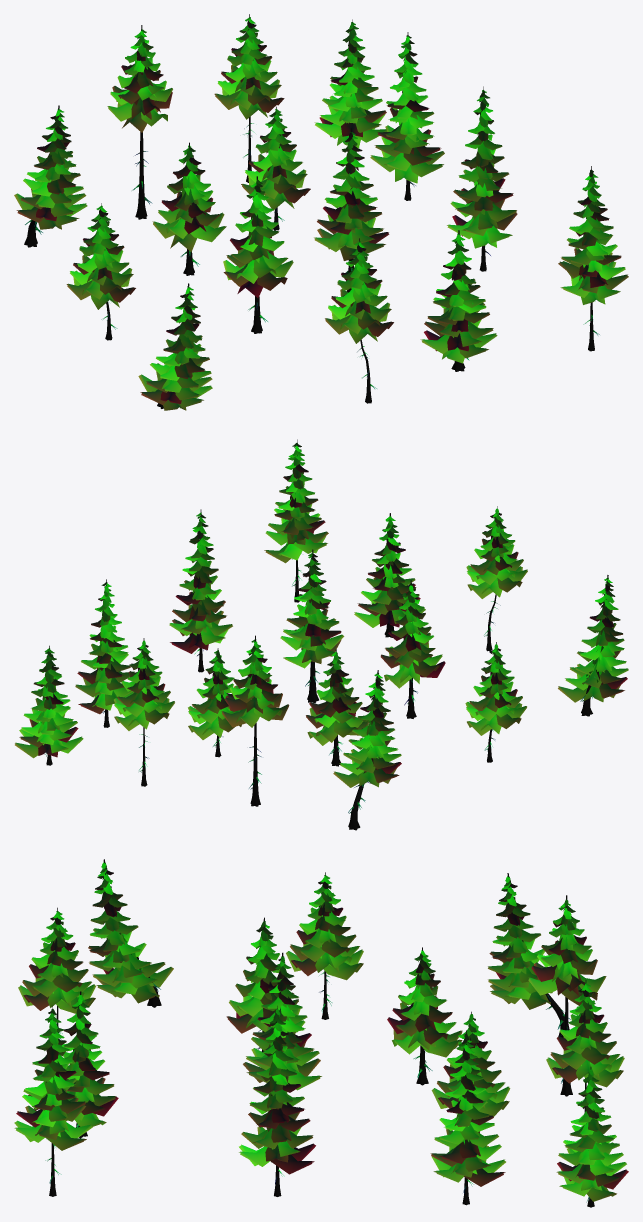
File: Pine_6.fbx
3 views of the same model, one above another, from view 1: azimuth 30°, elevation 25°; view 2: azimuth 150°, elevation 25°; view 3: azimuth 270°, elevation 25° (orthographic). The views are drawn at different scales.
Parts seen in each view (by area): view 1: Tree_3, Tree_2, Tree_8, Tree_4, Tree_13, Tree_7, Tree_15, Tree_11, Tree_1, Tree_9, Tree_10, Tree_12 (+3 smaller); view 2: Tree_3, Tree_15, Tree_13, Tree_7, Tree_4, Tree_2, Tree_1, Tree_9, Tree_11, Tree_8, Tree_12, Tree_10 (+3 smaller); view 3: Tree_3, Tree_2, Tree_4, Tree_15, Tree_1, Tree_14, Tree_10, Tree_13, Tree_9, Tree_5, Tree_12, Tree_7 (+3 smaller).
Boxes of the visible parts, left/top/right/bottom form: Tree_3: left=447, top=86, right=517, bottom=271; Tree_2: left=370, top=32, right=444, bottom=200; Tree_8: left=420, top=230, right=497, bottom=371; Tree_4: left=558, top=166, right=628, bottom=351; Tree_13: left=14, top=105, right=87, bottom=247; Tree_7: left=314, top=128, right=389, bottom=292; Tree_15: left=138, top=283, right=212, bottom=410; Tree_11: left=223, top=176, right=293, bottom=333; Tree_1: left=314, top=19, right=387, bottom=148; Tree_9: left=107, top=25, right=172, bottom=219; Tree_10: left=152, top=142, right=226, bottom=275; Tree_12: left=325, top=238, right=393, bottom=403; Tree_3: left=169, top=509, right=232, bottom=672; Tree_15: left=558, top=575, right=628, bottom=716; Tree_13: left=333, top=670, right=401, bottom=830; Tree_7: left=280, top=549, right=344, bottom=702; Tree_4: left=264, top=439, right=328, bottom=602; Tree_2: left=75, top=579, right=134, bottom=727; Tree_1: left=15, top=645, right=83, bottom=765; Tree_9: left=221, top=635, right=289, bottom=806; Tree_11: left=380, top=580, right=445, bottom=718; Tree_8: left=354, top=513, right=425, bottom=637; Tree_12: left=466, top=506, right=527, bottom=651; Tree_10: left=306, top=649, right=369, bottom=766; Tree_3: left=239, top=1006, right=315, bottom=1196; Tree_2: left=430, top=1030, right=505, bottom=1205; Tree_4: left=14, top=1005, right=92, bottom=1196; Tree_15: left=88, top=859, right=173, bottom=1007; Tree_1: left=556, top=1067, right=628, bottom=1207; Tree_14: left=286, top=872, right=363, bottom=1019; Tree_10: left=387, top=947, right=462, bottom=1085; Tree_13: left=488, top=873, right=570, bottom=1037; Tree_9: left=528, top=895, right=606, bottom=1096; Tree_5: left=546, top=980, right=624, bottom=1112; Tree_12: left=18, top=907, right=95, bottom=1039; Tree_7: left=243, top=952, right=321, bottom=1090.
Size of the model in its own units: 7456 by 2942 by 8255.
